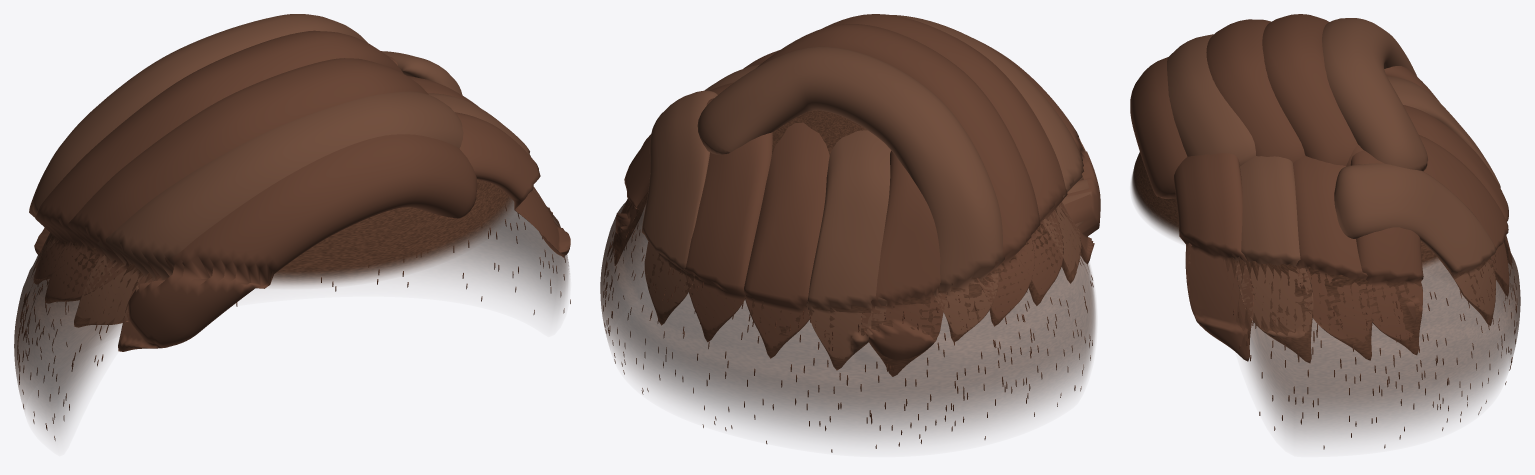
Rendered from Masculine-taper-headband251-hair.glb.
3 renders of one model, left to right at view 1: azimuth 30°, elevation 25°; view 2: azimuth 150°, elevation 25°; view 3: azimuth 270°, elevation 25°, orthographic. The views are drawn at different scales.
Visible parts, largest first — view 1: 226 hair / Hair / main251.001, 226 hair / Hair / clipped grain251.001, 226 hair / Hair / close cut strokes251.001; view 2: 226 hair / Hair / main251.001, 226 hair / Hair / clipped grain251.001, 226 hair / Hair / close cut strokes251.001; view 3: 226 hair / Hair / main251.001, 226 hair / Hair / clipped grain251.001, 226 hair / Hair / close cut strokes251.001.
Boxes of the visible parts, x1=… form: 226 hair / Hair / main251.001: x1=29, y1=14, x2=570, y2=351; 226 hair / Hair / clipped grain251.001: x1=14, y1=179, x2=569, y2=436; 226 hair / Hair / close cut strokes251.001: x1=17, y1=208, x2=570, y2=440; 226 hair / Hair / main251.001: x1=614, y1=14, x2=1100, y2=376; 226 hair / Hair / clipped grain251.001: x1=600, y1=110, x2=1095, y2=441; 226 hair / Hair / close cut strokes251.001: x1=603, y1=207, x2=1093, y2=452; 226 hair / Hair / main251.001: x1=1130, y1=14, x2=1511, y2=362; 226 hair / Hair / clipped grain251.001: x1=1131, y1=152, x2=1520, y2=440; 226 hair / Hair / close cut strokes251.001: x1=1233, y1=241, x2=1516, y2=449.
Bounding box in the file's own units: 0.9812 × 0.6928 × 0.752.
4 materials, 1 textured.
